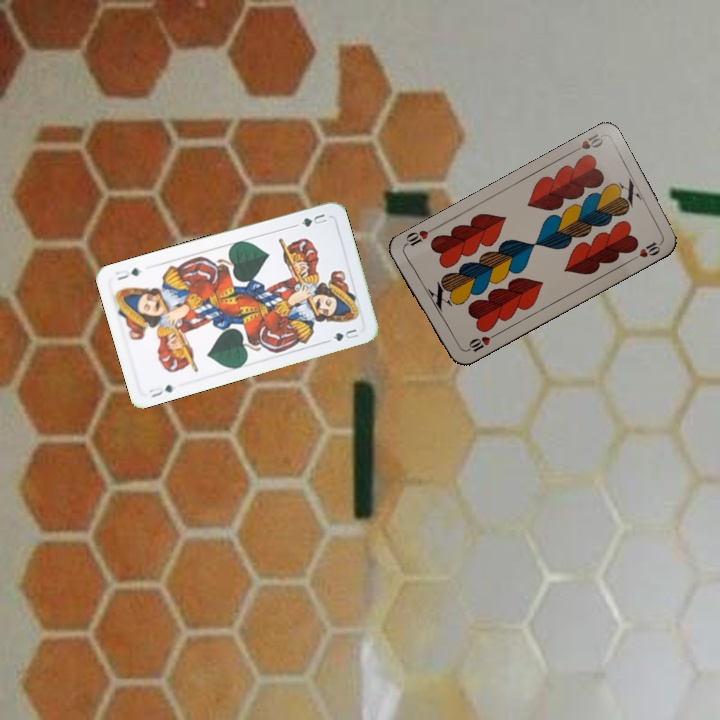GU: (297, 209, 330, 230), (145, 381, 176, 400)
H10: (567, 129, 606, 156), (460, 330, 498, 355)
